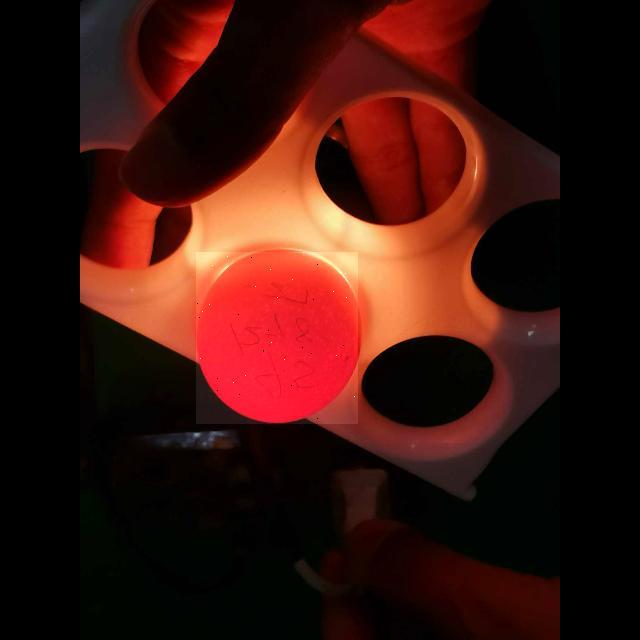Infertile: (196, 252, 358, 424)
